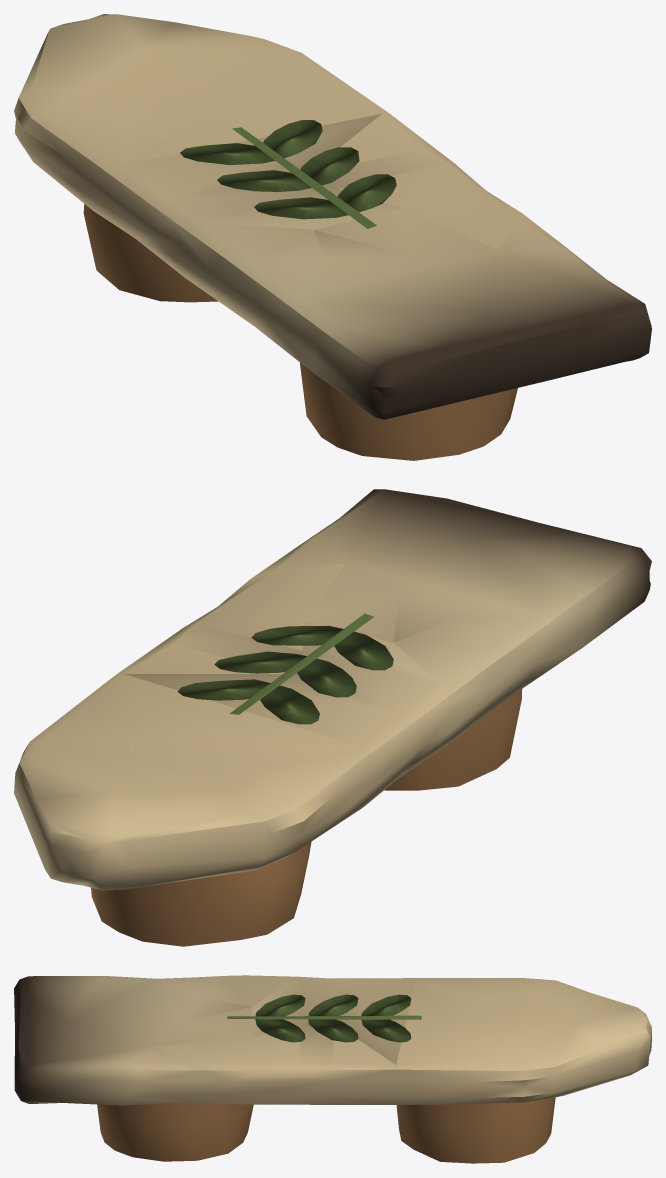
The model's file is mire_plant_label_lod1.glb.
The picture shows the model from 3 angles, top to bottom: view 1: azimuth 30°, elevation 25°; view 2: azimuth 150°, elevation 25°; view 3: azimuth 270°, elevation 25°; orthographic projection. The views are drawn at different scales.
Parts seen in each view (by area): view 1: mire_plant_label.001; view 2: mire_plant_label.001; view 3: mire_plant_label.001.
Part boxes in pixels (box(x1,y1,x2,y2)): mire_plant_label.001: box(14, 14, 651, 460); mire_plant_label.001: box(14, 489, 651, 946); mire_plant_label.001: box(14, 975, 651, 1163).
Size of the model in its own units: 2.65 by 1.46 by 7.23.
